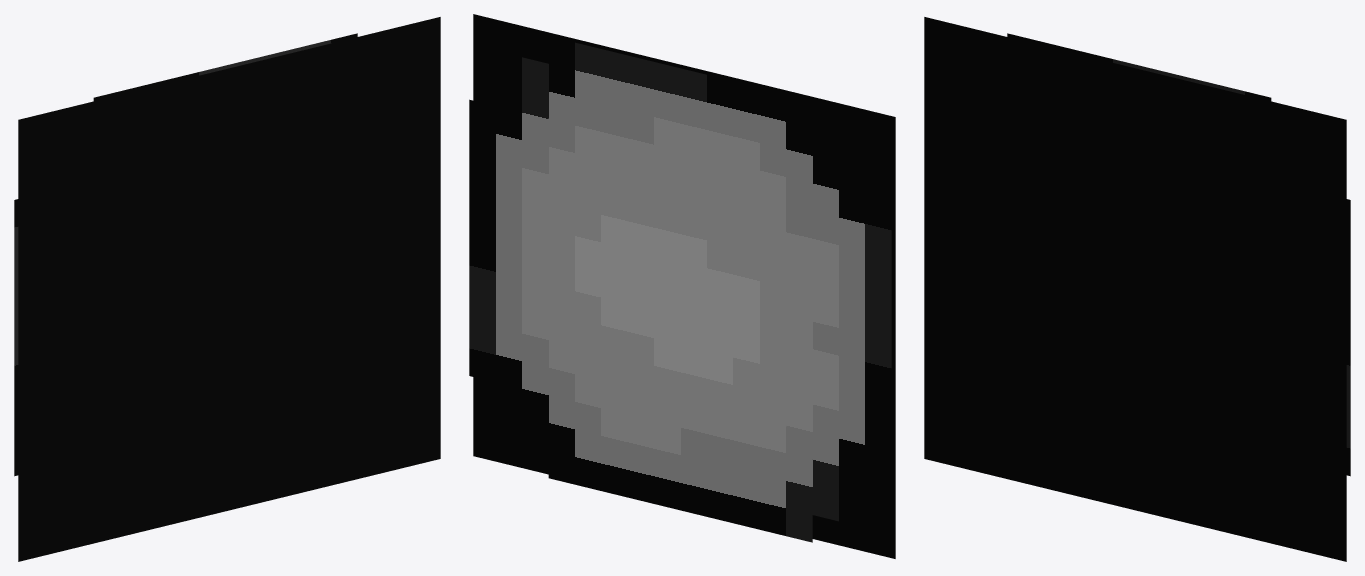
Rendered from officeclock.gltf.
The picture shows the model from 3 angles, left to right: view 1: azimuth 30°, elevation 25°; view 2: azimuth 150°, elevation 25°; view 3: azimuth 330°, elevation 25°; orthographic projection.
Parts seen in each view (by area): view 1: clocknumbers, clockhand, clock; view 2: clock, clocknumbers; view 3: clocknumbers, clockhand, clock.
Part boxes in pixels (box(x1,y1,x2,y2)): clocknumbers: box(18, 17, 440, 561); clockhand: box(101, 264, 233, 324); clock: box(14, 33, 357, 476); clock: box(469, 36, 891, 542); clocknumbers: box(473, 14, 895, 558); clocknumbers: box(924, 17, 1346, 561); clockhand: box(999, 232, 1131, 291); clock: box(1007, 33, 1350, 476).
Size of the model in its own units: 1 by 1 by 0.0312.
Materials: 2 (2 with a texture image).
